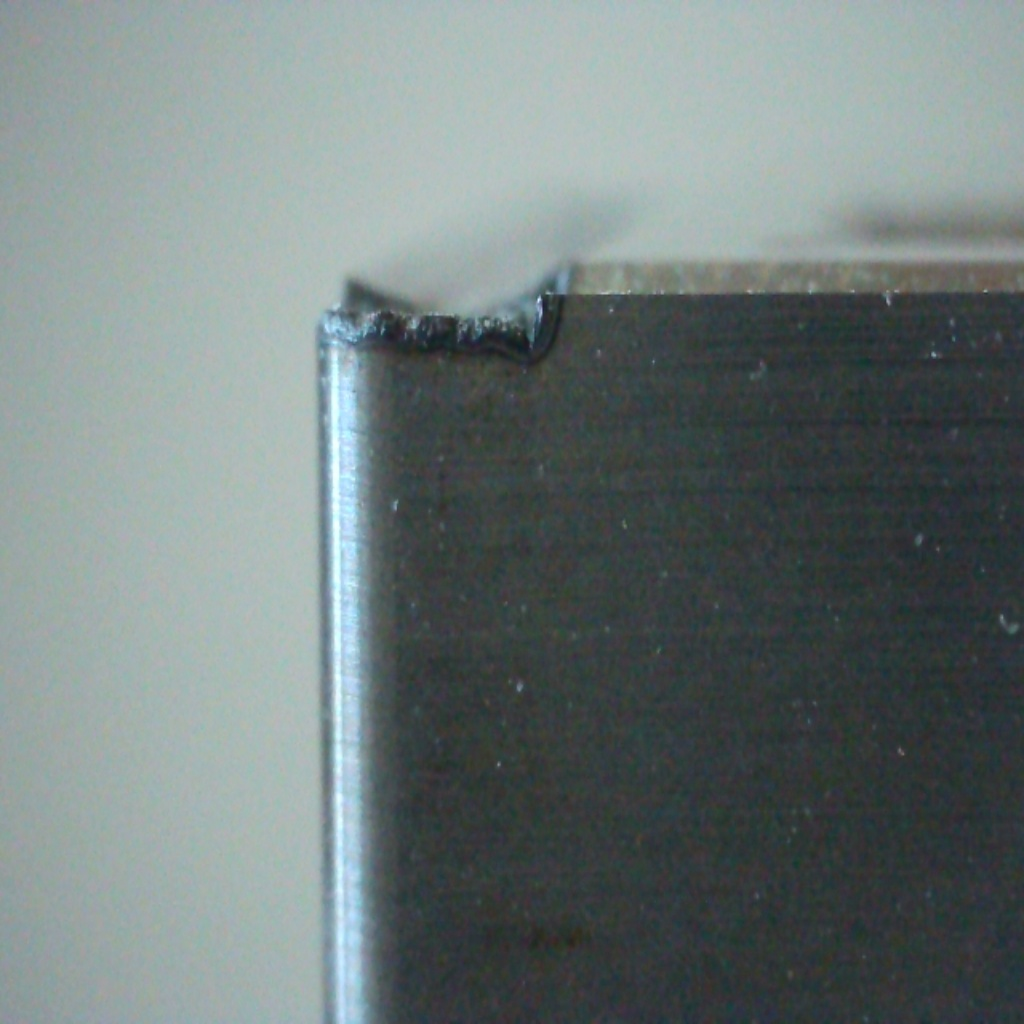flank_wear: (318, 309, 536, 362)
